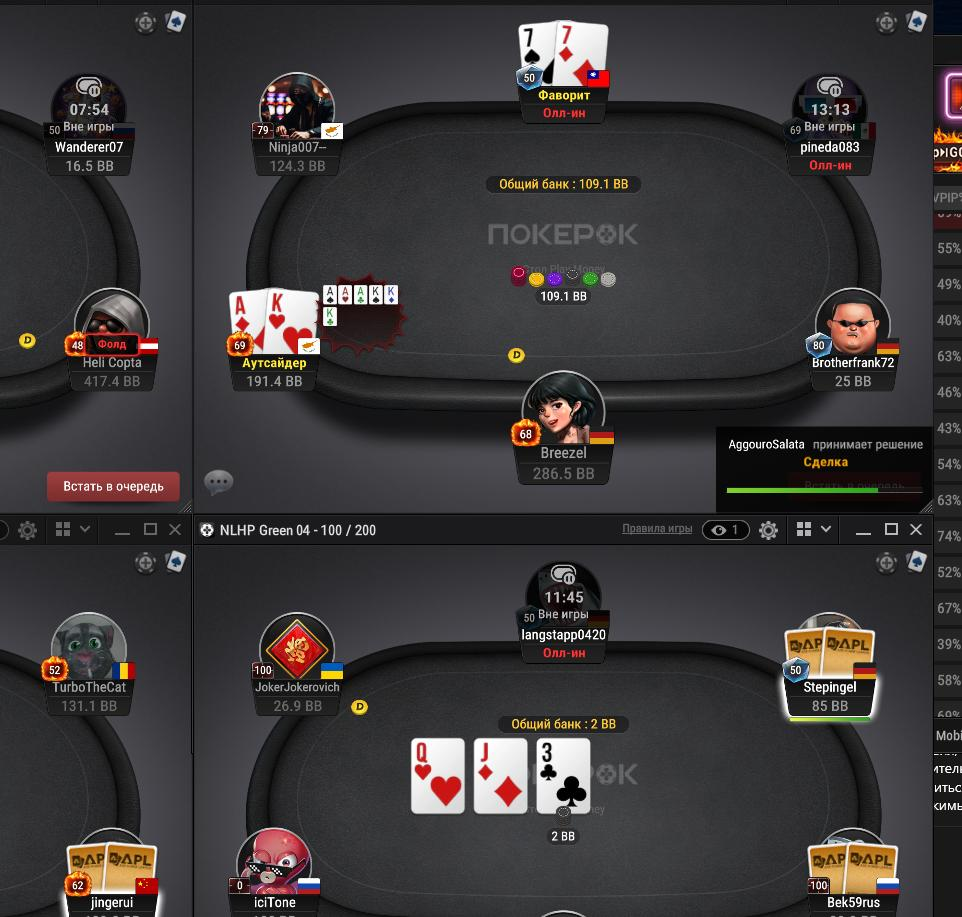3c: (539, 740, 593, 815)
7d: (554, 17, 610, 86)
7s: (516, 22, 556, 82)
Ad: (226, 291, 268, 355)
Jd: (475, 740, 530, 812)
Kh: (266, 284, 320, 360)
Qh: (412, 739, 465, 815)
